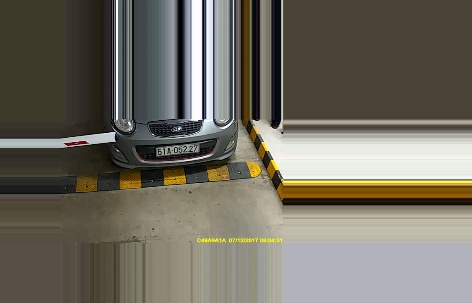plate: (156, 143, 203, 157)
